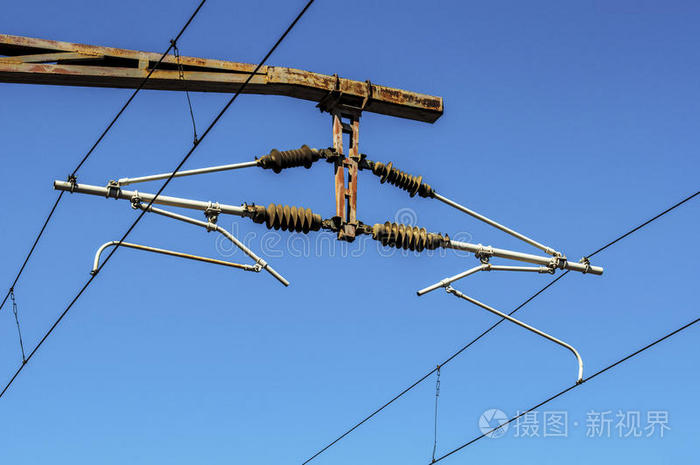insulator: (264, 201, 315, 234), (381, 162, 423, 197), (383, 221, 428, 252), (273, 144, 315, 174)
